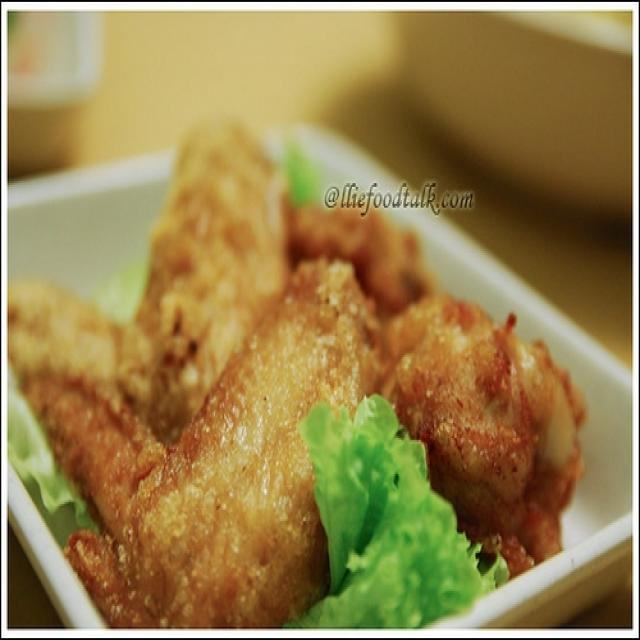Deep fried chicken wing: (63, 236, 583, 600)
